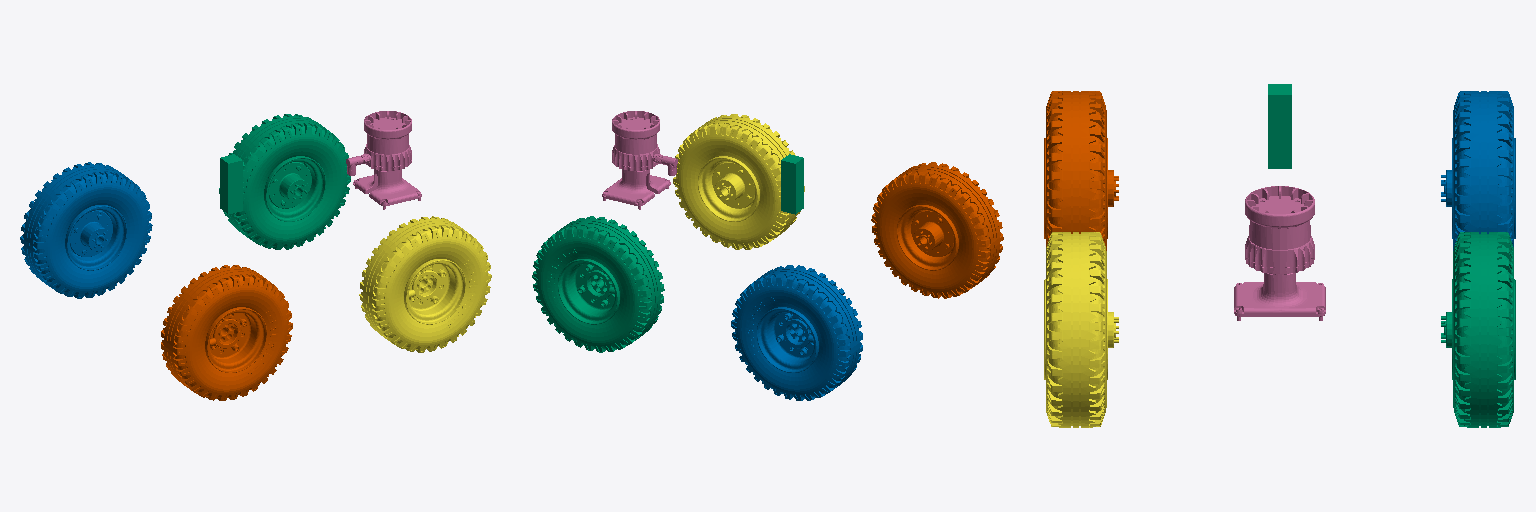
The robot description file, URDF, robot "avular_origin_v10":
<?xml version='1.0'?>

<robot name="avular_origin_v10">

  <gazebo>
    <static>false</static>
    <plugin filename="gz-sim-sensors-system" name="gz::sim::systems::Sensors">
      <render_engine>ogre2</render_engine>
    </plugin>
    <plugin filename="ignition-gazebo-navsat-system" name="ignition::gazebo::systems::NavSat">
    </plugin>
  </gazebo>

  <link name='base_link' />

  <link name='main_body'>
    <inertial>
      <mass value="21.0"/>
      <inertia ixx="0.4" ixy="0.0" ixz="0.0" iyy="0.77" iyz="0.0" izz="1.01"/>
    </inertial>
    <collision name='collision'>
      <origin xyz="0 0 0.07" rpy="0 0 0.0"/>
      <geometry>
        <box size=".65 .4 .125"/>
      </geometry>
    </collision>
    <visual name='visual'>
      <origin xyz="0 0 0" rpy="0 0 0.0"/>
      <geometry>
        <mesh filename="package://origin_v10_description/urdf/meshes/body.obj"
          scale="0.001 0.001 0.001" />
      </geometry>
    </visual>
  </link>

  <link name="left_front_wheel">
    <inertial>
      <mass value="1"/>
      <inertia ixx="0.01" ixy="0.0" ixz="0.0" iyy="0.01" iyz="0.0" izz="0.01"/>
    </inertial>
    <collision>
      <origin xyz="0 0 0.0" rpy="0 0 0"/>
      <geometry>
        <cylinder length=".07" radius=".1175"/>
      </geometry>
    </collision>
    <visual>
      <origin xyz="0.0 0.0 0.0" rpy="0.0 1.5707 0.0"/>
      <geometry>
        <mesh filename="package://origin_v10_description/urdf/meshes/wheel.obj"
          scale="0.001 0.001 0.001" />
      </geometry>
    </visual>
  </link>
  <gazebo reference="left_front_wheel">
    <collision>
      <surface>
        <friction>
          <ode>
            <mu>1</mu>
            <mu2>1</mu2>
            <slip1>0.015</slip1>
            <slip2>0</slip2>
            <fdir1>0 0 1</fdir1>
          </ode>
          <bullet>
            <friction>1</friction>
            <friction2>1</friction2>
            <rolling_friction>0.1</rolling_friction>
          </bullet>
        </friction>
      </surface>
    </collision>
  </gazebo>

  <link name="right_front_wheel">
    <inertial>
      <mass value="1"/>
      <inertia ixx="0.01" ixy="0.0" ixz="0.0" iyy="0.01" iyz="0.0" izz="0.01"/>
    </inertial>
    <collision>
      <origin xyz="0 0 0.0" rpy="0 0 0"/>
      <geometry>
        <cylinder length=".07" radius=".1175"/>
      </geometry>
    </collision>
    <visual>
      <origin xyz="0.0 0.0 0.0" rpy="0.0 1.5707 0.0"/>
      <geometry>
        <mesh filename="package://origin_v10_description/urdf/meshes/wheel.obj"
          scale="0.001 0.001 0.001" />
      </geometry>
    </visual>
  </link>
  <gazebo reference="right_front_wheel">
    <collision>
      <surface>
        <friction>
          <ode>
            <mu>1</mu>
            <mu2>1</mu2>
            <slip1>0.015</slip1>
            <slip2>0</slip2>
            <fdir1>0 0 1</fdir1>
          </ode>
          <bullet>
            <friction>1</friction>
            <friction2>1</friction2>
            <rolling_friction>0.1</rolling_friction>
          </bullet>
        </friction>
      </surface>
    </collision>
  </gazebo>

  <link name="left_rear_wheel">
    <inertial>
      <mass value="1"/>
      <inertia ixx="0.01" ixy="0.0" ixz="0.0" iyy="0.01" iyz="0.0" izz="0.01"/>
    </inertial>
    <collision>
      <origin xyz="0 0 0.0" rpy="0 0 0"/>
      <geometry>
        <cylinder length=".07" radius=".1175"/>
      </geometry>
    </collision>
    <visual>
      <origin xyz="0.0 0.0 0.0" rpy="0.0 1.5707 0.0"/>
      <geometry>
        <mesh filename="package://origin_v10_description/urdf/meshes/wheel.obj"
          scale="0.001 0.001 0.001" />
      </geometry>
    </visual>
  </link>
  <gazebo reference="left_rear_wheel">
    <collision>
      <surface>
        <friction>
          <ode>
            <mu>1</mu>
            <mu2>1</mu2>
            <slip1>0.015</slip1>
            <slip2>0</slip2>
            <fdir1>0 0 1</fdir1>
          </ode>
          <bullet>
            <friction>1</friction>
            <friction2>1</friction2>
            <rolling_friction>0.1</rolling_friction>
          </bullet>
        </friction>
      </surface>
    </collision>
  </gazebo>

  <link name="right_rear_wheel">
    <inertial>
      <mass value="1"/>
      <inertia ixx="0.01" ixy="0.0" ixz="0.0" iyy="0.01" iyz="0.0" izz="0.01"/>
    </inertial>
    <collision>
      <origin xyz="0 0 0.0" rpy="0 0 0"/>
      <geometry>
        <cylinder length=".07" radius=".1175"/>
      </geometry>
    </collision>
    <visual>
      <origin xyz="0.0 0.0 0.0" rpy="0.0 1.5707 0.0"/>
      <geometry>
        <mesh filename="package://origin_v10_description/urdf/meshes/wheel.obj"
          scale="0.001 0.001 0.001" />
      </geometry>
    </visual>
  </link>
  <gazebo reference="right_rear_wheel">
    <collision>
      <surface>
        <friction>
          <ode>
            <mu>1</mu>
            <mu2>1</mu2>
            <slip1>0.015</slip1>
            <slip2>0</slip2>
            <fdir1>0 0 1</fdir1>
          </ode>
          <bullet>
            <friction>1</friction>
            <friction2>1</friction2>
            <rolling_friction>0.1</rolling_friction>
          </bullet>
        </friction>
      </surface>
    </collision>
  </gazebo>


  <link name="ouster_base">
    <inertial>
      <mass value="1"/>
      <inertia ixx="0.001" ixy="0.0" ixz="0.0" iyy="0.001" iyz="0.0" izz="0.001"/>
    </inertial>
    <visual name="visual">
      <geometry>
        <mesh filename="package://origin_v10_description/urdf/meshes/ouster.obj"
          scale="0.001 0.001 0.001" />
      </geometry>
    </visual>
    <collision name="collision-base">
      <origin xyz="0.0 0.0 0.0" rpy="0.0 0.0 0.0"/>
      <geometry>
        <box size="0.1 0.1 0.1"/>
      </geometry>
    </collision>
  </link>

  <link name="os_sensor" />

  <link name="lidar_link_gazebo">
    <inertial>
      <mass value="0.1"/>
      <inertia ixx="0.001" ixy="0.0" ixz="0.0" iyy="0.001" iyz="0.0" izz="0.001"/>
    </inertial>
    <collision name="collision-base">
      <origin xyz="0 0 0.0" rpy="0 0 0"/>
      <geometry>
        <cylinder length="0.07" radius="0.04"/>
      </geometry>
    </collision>
  </link>

  <gazebo reference="lidar_link_gazebo">
    <sensor name='ouster_lidar' type='gpu_lidar'>
      <topic>/robot/lidar</topic>
      <gz_frame_id>os_lidar</gz_frame_id>
      <update_rate>10</update_rate>
      <lidar>
        <scan>
          <horizontal>
            <samples>1024</samples>
            <resolution>1.0</resolution>
            <min_angle>-3.1415926</min_angle>
            <max_angle>3.1415926</max_angle>
          </horizontal>
          <vertical>
            <samples>32</samples>
            <resolution>1</resolution>
            <min_angle>-0.39</min_angle>
            <max_angle>0.39</max_angle>
          </vertical>
        </scan>
        <range>
          <min>0.08</min>
          <max>100.0</max>
          <resolution>0.01</resolution>
        </range>
        <noise type="gaussian">
          <mean>0.0</mean>
          <stddev>0.01</stddev>
        </noise>
      </lidar>
      <alwaysOn>1</alwaysOn>
      <visualize>true</visualize>
    </sensor>
  </gazebo>

  <link name="camera_link">
    <inertial>
      <mass value="0.035"/>
      <inertia ixx="0.001" ixy="0" ixz="0.0" iyy="0.001" iyz="0.0" izz="0.001"/>
    </inertial>
    <collision name="collision">
      <origin xyz="0 0.047 0" rpy="0 0 0"/>
      <geometry>
        <box size="0.008 0.13 0.022"/>
      </geometry>
    </collision>
  </link>

  <gazebo reference="camera_link">
    <sensor name="realsense_d435" type="rgbd_camera">
      <gz_frame_id>camera_link</gz_frame_id>
      <topic>/robot/camera</topic>
      <update_rate>6</update_rate>
      <camera name="camera">
        <horizontal_fov>1.0472</horizontal_fov>
        <lens>
          <intrinsics>
            <!-- fx = fy = width / ( 2 * tan (hfov / 2 ) ) -->
            <fx>554.25469</fx>
            <fy>554.25469</fy>
            <!-- cx = ( width + 1 ) / 2 -->
            <cx>320.5</cx>
            <!-- cy = ( height + 1 ) / 2 -->
            <cy>240.5</cy>
            <s>0</s>
          </intrinsics>
        </lens>
        <distortion>
          <k1>0.0</k1>
          <k2>0.0</k2>
          <k3>0.0</k3>
          <p1>0.0</p1>
          <p2>0.0</p2>
          <center>0.5 0.5</center>
        </distortion>
        <image>
          <width>640</width>
          <height>480</height>
          <format>R8G8B8</format>
        </image>
        <clip>
          <near>0.02</near>
          <far>300</far>
        </clip>
        <depth_camera>
          <clip>
            <near>0.1</near>
            <far>10</far>
          </clip>
        </depth_camera>
        <noise type="gaussian">
          <mean>0</mean>
          <stddev>0.007</stddev>
        </noise>
      </camera>
    </sensor>
  </gazebo>

  <link name="gnss_link">
    <visual name="visual_pole">
      <geometry>
        <mesh filename="package://origin_v10_description/urdf/meshes/antenna.obj"
          scale="0.001 0.001 0.001" />
      </geometry>
      <origin xyz="0.0 0 0.0" rpy="0 0 0"/>
      <geometry>
        <box size="0.03 0.03 0.1"/>
      </geometry>
    </visual>
  </link>

  <gazebo reference="gnss_link">
    <sensor name="navsat" type="navsat">
      <gz_frame_id>gnss_link</gz_frame_id>
      <always_on>1</always_on>
      <update_rate>10</update_rate>
      <topic>/robot/gnss</topic>
      <!-- Obtained from http://sdformat.org/spec?ver=1.11&elem=sensor#sensor_gps -->
      <gps>
        <position_sensing>
          <horizontal>
            <!-- Noise in degrees: https://github.com/gazebosim/gz-sensors/issues/325 -->
            <noise type="gaussian">
              <mean>0.0</mean>
              <stddev>0.0001</stddev>
            </noise>
          </horizontal>
          <vertical>
            <!-- Noise in degrees -->
            <noise type="gaussian">
              <mean>0.0</mean>
              <stddev>0.0001</stddev>
            </noise>
          </vertical>
        </position_sensing>
      </gps>
    </sensor>
  </gazebo>

  <joint type="fixed" name="base_body">
    <origin xyz="0.0 0 0.064" rpy="0 0 0"/>
    <child link="main_body" />
    <parent link="base_link"/>
  </joint>

  <joint type="continuous" name="main_body_left_front_wheel">
    <origin xyz="0.205 0.25 0.056" rpy="-1.5707 0 0"/>
    <child link="left_front_wheel" />
    <parent link="main_body"/>
    <axis xyz="0 0 1"/>
    <limit effort="100000.0" velocity="10"/>
  </joint>

  <joint type="continuous" name="main_body_right_front_wheel">
    <origin xyz="0.205 -0.25 0.056" rpy="1.5707 0 0"/>
    <child link="right_front_wheel" />
    <parent link="main_body"/>
    <axis xyz="0 0 -1"/>
    <limit effort="100000.0" velocity="10"/>
  </joint>

  <joint type="continuous" name="main_body_left_rear_wheel">
    <origin xyz="-0.205 0.25 0.056" rpy="-1.5707 0 0"/>
    <child link="left_rear_wheel" />
    <parent link="main_body"/>
    <axis xyz="0 0 1"/>
    <limit effort="100000.0" velocity="10"/>
  </joint>

  <joint type="continuous" name="main_body_right_rear_wheel">
    <origin xyz="-0.205 -0.25 0.056" rpy="1.5707 0 0"/>
    <child link="right_rear_wheel" />
    <parent link="main_body"/>
    <axis xyz="0 0 -1"/>
    <limit effort="100000.0" velocity="10"/>
  </joint>

  <joint type="fixed" name="ouster_platform_joint">
    <origin xyz="0.272 0 0.189" rpy="0 0 0"/>
    <child link="ouster_base" />
    <parent link="main_body"/>
  </joint>

  <joint name="ouster_orientation_joint" type="fixed">
    <parent link="ouster_base" />
    <child link="os_sensor" />
    <origin xyz="0 0 0" rpy="0 0 0" />
  </joint>

  <joint type="fixed" name="lidar_joint_gazebo">
    <origin xyz="0 0 0.035" rpy="0 0 0"/>
    <child link="lidar_link_gazebo" />
    <parent link="ouster_base"/>
  </joint>

  <joint type="fixed" name="realsense_joint">
    <origin xyz="0.32 0.03 0.1" rpy="0 0 0"/>
    <child link="camera_link"/>
    <parent link="main_body"/>
  </joint>

  <joint type="fixed" name="gnss_joint">
    <origin xyz="-0.0505 0 0.212" rpy="0 0 0"/>
    <child link="gnss_link"/>
    <parent link="main_body"/>
  </joint>

  <!-- Controls the differential drive robot -->
  <gazebo>
    <plugin filename="gz-sim-joint-state-publisher-system" name="ignition::gazebo::systems::JointStatePublisher">
      <topic>/robot/joint_states</topic>
    </plugin>
    <plugin filename="gz-sim-diff-drive-system" name="gz::sim::systems::DiffDrive">
      <left_joint>main_body_left_front_wheel</left_joint>
      <left_joint>main_body_left_rear_wheel</left_joint>
      <right_joint>main_body_right_front_wheel</right_joint>
      <right_joint>main_body_right_rear_wheel</right_joint>
      <wheel_separation>0.41</wheel_separation>
      <wheel_radius>0.105</wheel_radius>
      <max_linear_acceleration>5</max_linear_acceleration>
      <min_linear_acceleration>-5</min_linear_acceleration>
      <max_angular_acceleration>5</max_angular_acceleration>
      <min_angular_acceleration>-5</min_angular_acceleration>
      <max_linear_velocity>1.5</max_linear_velocity>
      <min_linear_velocity>-1.5</min_linear_velocity>
      <max_angular_velocity>2</max_angular_velocity>
      <min_angular_velocity>-2</min_angular_velocity>

      <topic>/robot/cmd_vel</topic>
      <odom_topic>/robot/odom</odom_topic>
      <tf_topic>/robot/tf</tf_topic>
      <frame_id>odom</frame_id>
      <child_frame_id>base_link</child_frame_id>
    </plugin>
  </gazebo>

</robot>

--- Facts derived from the render (not from the file) ---
Views: 3 orthographic renders of the robot side by side, from view 1: azimuth 30°, elevation 25°; view 2: azimuth 150°, elevation 25°; view 3: azimuth 270°, elevation 25°.
Model avular_origin_v10 with 11 links and 10 joints (4 continuous, 6 fixed), rooted at base_link, posed every joint at zero.
Visible links, largest first — view 1: left_rear_wheel, right_rear_wheel, right_front_wheel, left_front_wheel, ouster_base, gnss_link; view 2: left_front_wheel, right_rear_wheel, left_rear_wheel, right_front_wheel, ouster_base, gnss_link; view 3: left_front_wheel, right_front_wheel, right_rear_wheel, left_rear_wheel, ouster_base, gnss_link.
Boxes of the visible links, bbox=[...] form: left_rear_wheel: bbox=[20, 162, 152, 298]; right_rear_wheel: bbox=[161, 265, 292, 400]; right_front_wheel: bbox=[359, 216, 491, 352]; left_front_wheel: bbox=[219, 114, 350, 249]; ouster_base: bbox=[346, 111, 421, 209]; gnss_link: bbox=[220, 154, 242, 214]; left_front_wheel: bbox=[532, 216, 664, 352]; right_rear_wheel: bbox=[871, 162, 1003, 298]; left_rear_wheel: bbox=[731, 265, 862, 400]; right_front_wheel: bbox=[673, 114, 804, 249]; ouster_base: bbox=[602, 111, 677, 209]; gnss_link: bbox=[781, 154, 803, 214]; left_front_wheel: bbox=[1441, 232, 1515, 427]; right_front_wheel: bbox=[1044, 232, 1118, 427]; right_rear_wheel: bbox=[1044, 91, 1118, 250]; left_rear_wheel: bbox=[1441, 91, 1515, 250]; ouster_base: bbox=[1234, 186, 1325, 320]; gnss_link: bbox=[1268, 84, 1291, 168].
Bounding box of the posed robot: 0.6499 × 0.5775 × 0.3265 m (x, y, z).
5 mesh visuals loaded from 3 distinct referenced files (2 OBJ); not drawn: 1 (file found but could not be loaded).